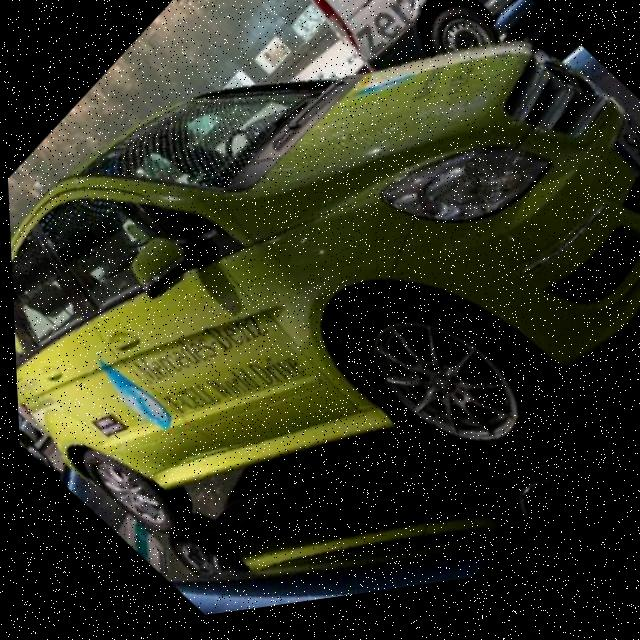license_plate: (582, 110, 640, 201)
